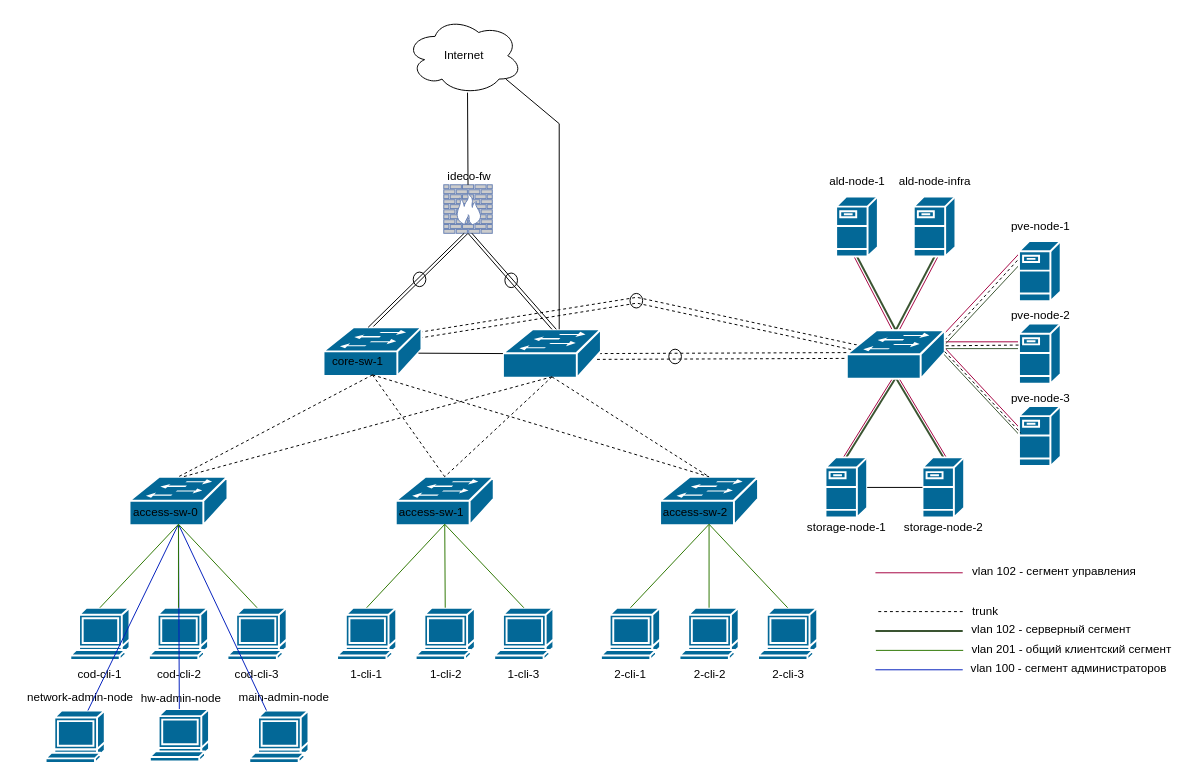
Image size: 1200x781. Some labels were removed from this diagram. The centre of each missing label's shape, as x and y in pixels:
"access-srv-sw" goes at point (895, 354).
"core-sw-2" goes at point (551, 353).
